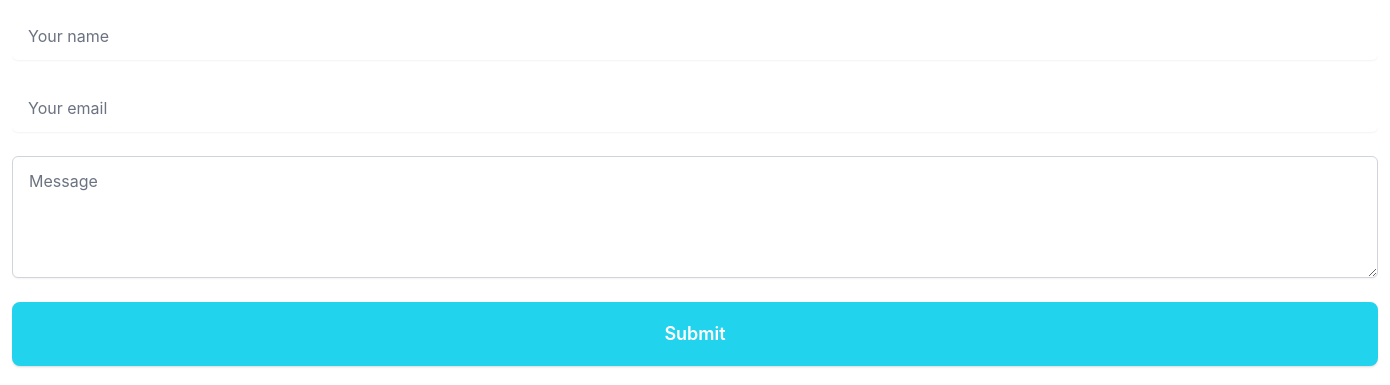
Scenario: allows me to submit a message
The width and height of the screenshot is (1390, 385).
Type "Elena Example" into the field labelled "Your name".
click(695, 36); type("Elena Example")  # box [12,12,1378,60]
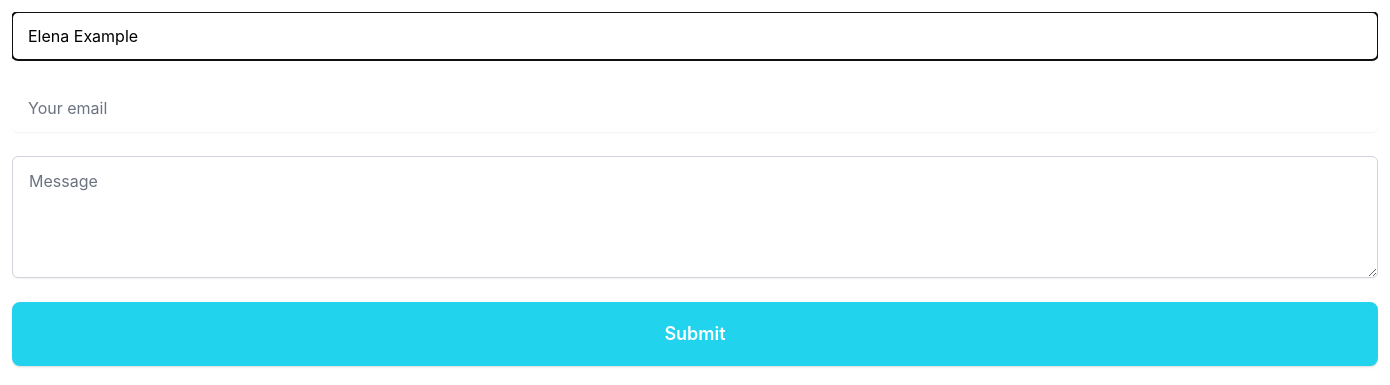
Type "elena@example.com" into the field labelled "Your email".
click(695, 108); type("elena@example.com")  # box [12,84,1378,132]
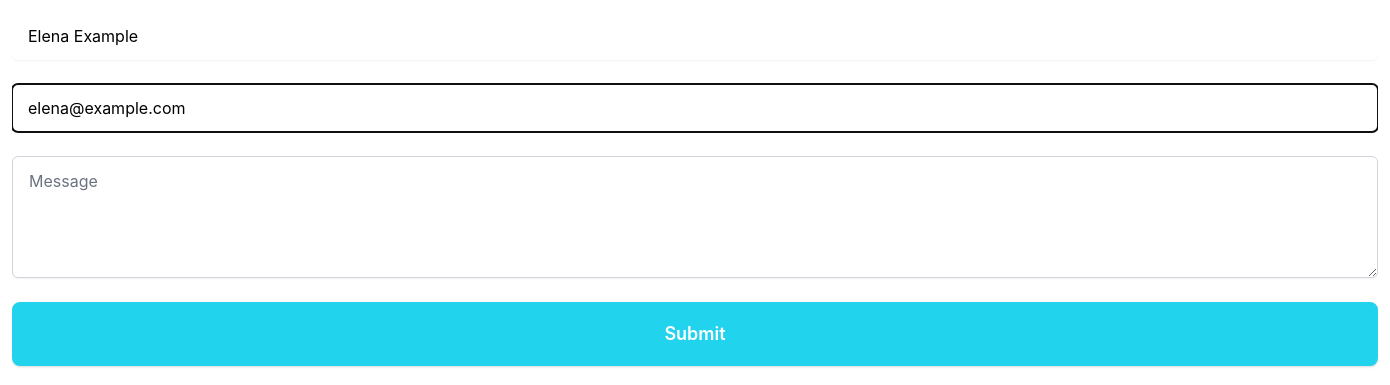
Type "We should work together!" into the text box labelled "Message".
click(695, 217); type("We should work together!")  # box [12,156,1378,278]
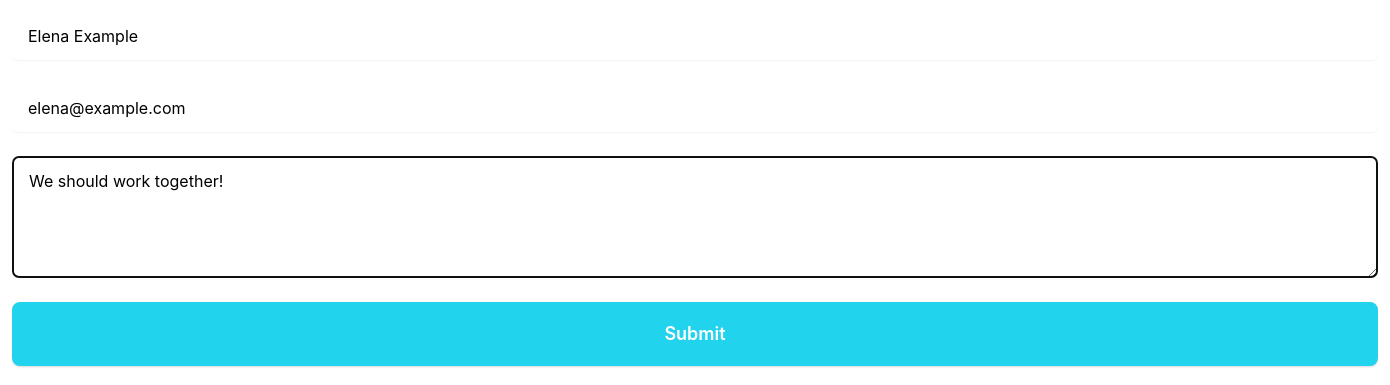
Click the button "Submit".
click(695, 334)  # box [12,302,1378,366]
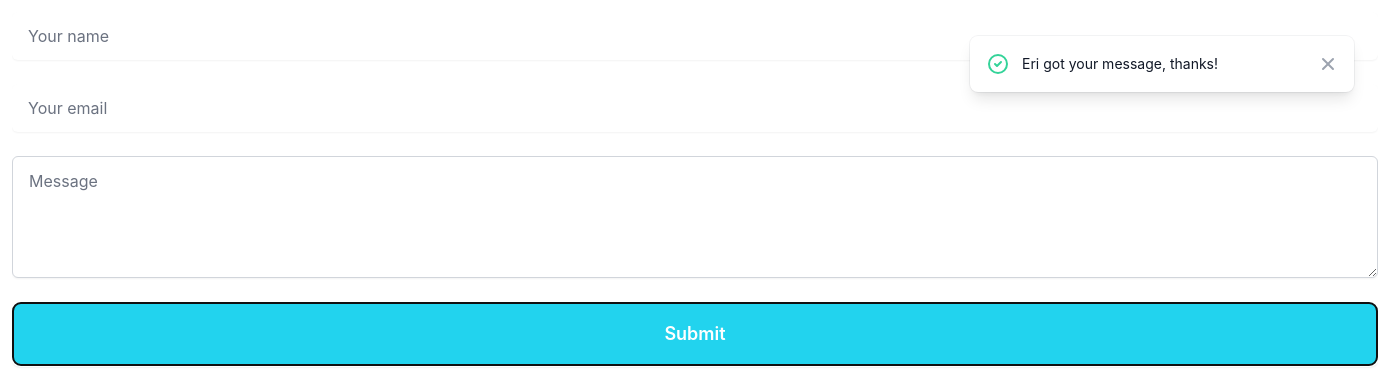
expect the message "Eri got your message, thanks!" is shown: met, box [970,36,1354,92]
